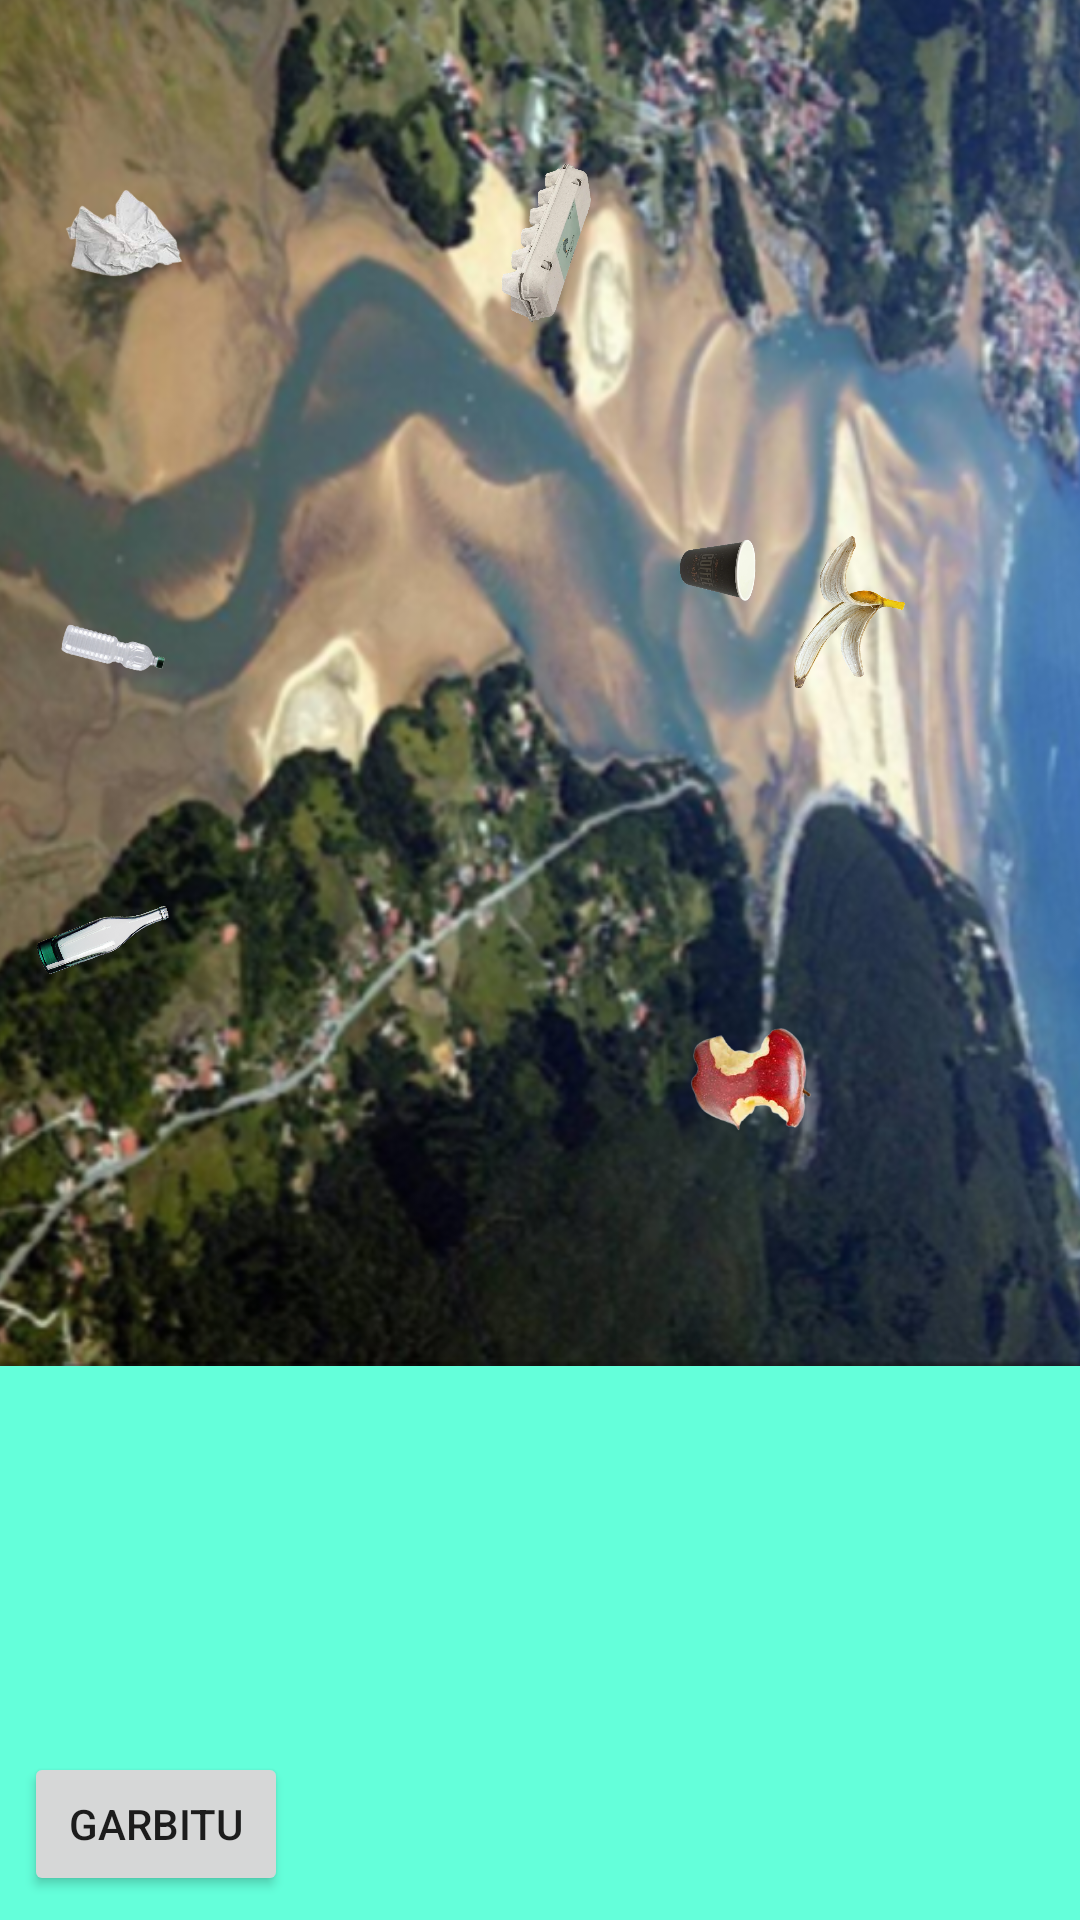

Named icons in this screenshot (1080w x 1920h) and their centers, point (x, y):
papera: point (124, 242)
